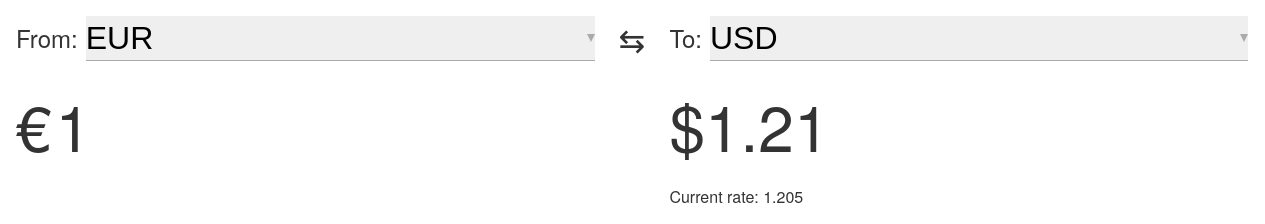
Convertor › allow to switch currency
Expected: the text "1.205" is shown, [763, 185, 803, 208]
Click the button "Switch". click: (632, 38)
box: [619, 16, 645, 61]
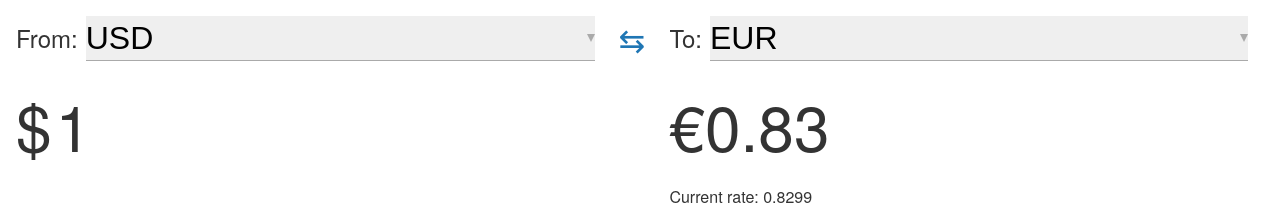
Expected: the text "0.8299" is shown, [763, 185, 812, 208]
